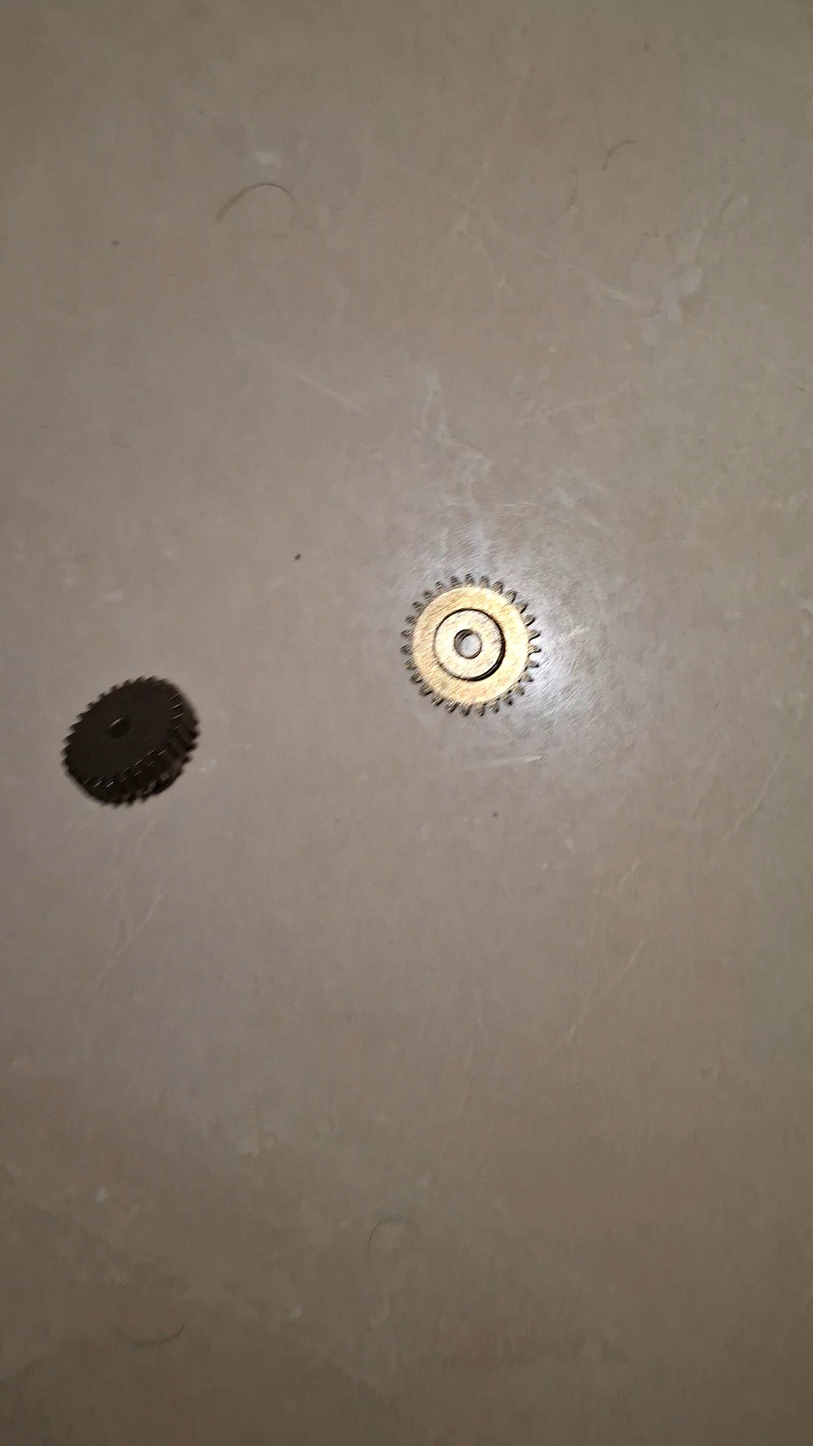spur gear: (402, 575, 539, 713), (63, 677, 198, 804)
